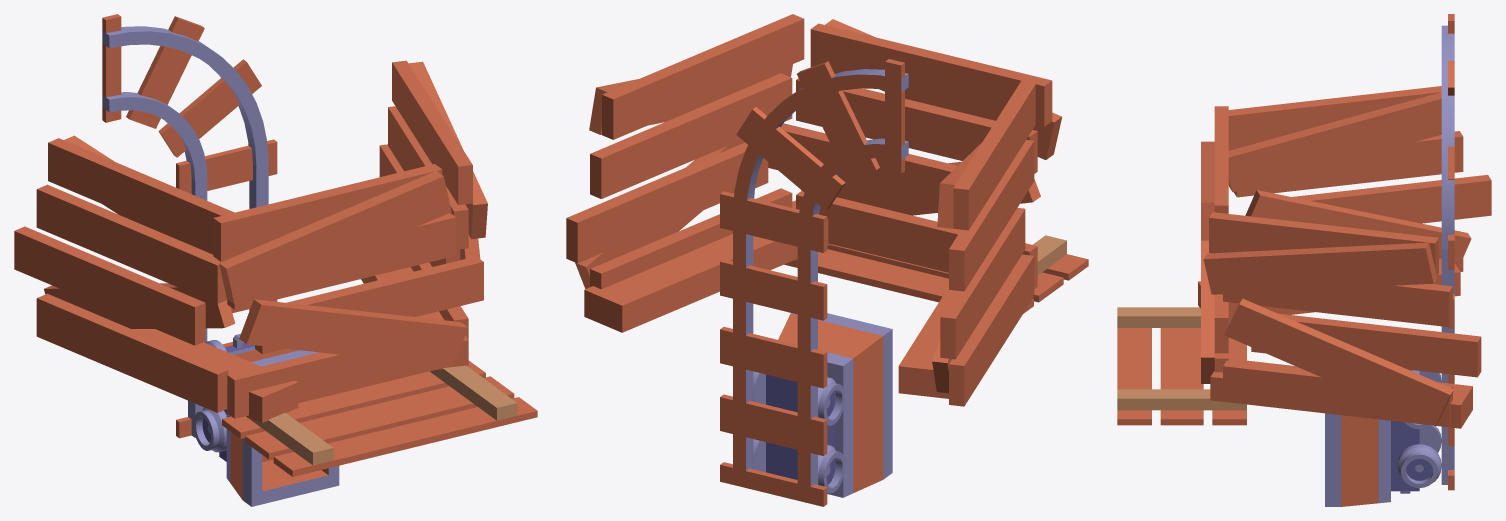
Rendered from Exit.fbx.
The picture shows the model from 3 angles, left to right: view 1: azimuth 30°, elevation 25°; view 2: azimuth 150°, elevation 25°; view 3: azimuth 270°, elevation 25°; orthographic projection. The views are drawn at different scales.
Visible parts, largest first — view 1: debris_wood (×3), platform_woodHalf, track_mineCurve, cart, block (×2), track_mineStraight; view 2: debris_wood (×3), track_mineStraight, track_mineCurve, cart, block (×2), platform_woodHalf; view 3: debris_wood (×3), platform_woodHalf, cart, track_mineCurve, block (×2), track_mineStraight.
Part boxes in pixels (x1,y1,x2,y2): debris_wood (×3): [14, 60, 487, 418]; platform_woodHalf: [222, 360, 537, 476]; track_mineCurve: [102, 14, 277, 181]; cart: [193, 333, 339, 506]; block (×2): [131, 267, 468, 422]; track_mineStraight: [176, 158, 277, 438]; debris_wood (×3): [566, 14, 1061, 406]; track_mineStraight: [720, 211, 827, 506]; track_mineCurve: [720, 59, 908, 235]; cart: [753, 313, 892, 497]; block (×2): [584, 200, 956, 398]; platform_woodHalf: [784, 235, 1088, 313]; debris_wood (×3): [1201, 86, 1491, 426]; platform_woodHalf: [1117, 307, 1246, 425]; cart: [1325, 369, 1441, 506]; track_mineCurve: [1441, 14, 1454, 255]; block (×2): [1198, 258, 1472, 428]; track_mineStraight: [1441, 249, 1454, 490].
Bounding box in the file's own units: 15.55 × 17.91 × 14.43.
